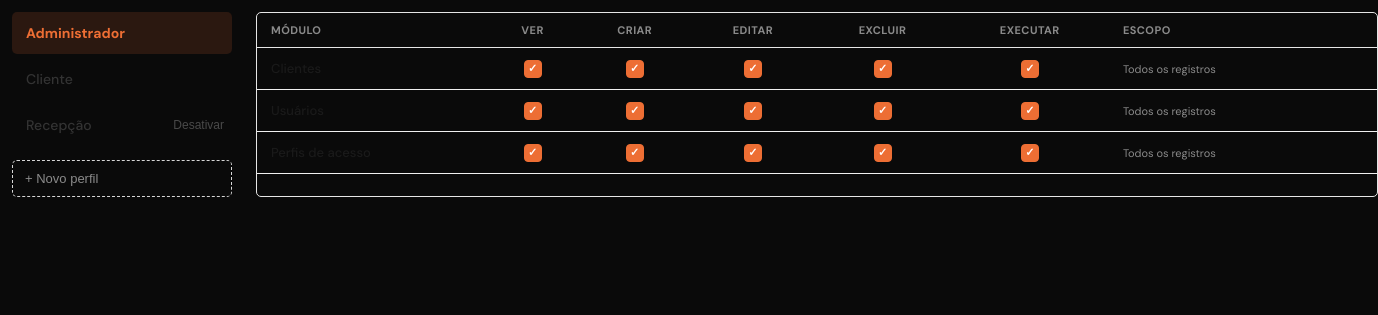
it: ProfilesPage › mostra o isolamento do Cliente como fixo, sem seletor de escopo editável
Click the button "Cliente" at (122, 79), box x1=12 y1=58 x2=232 y2=100
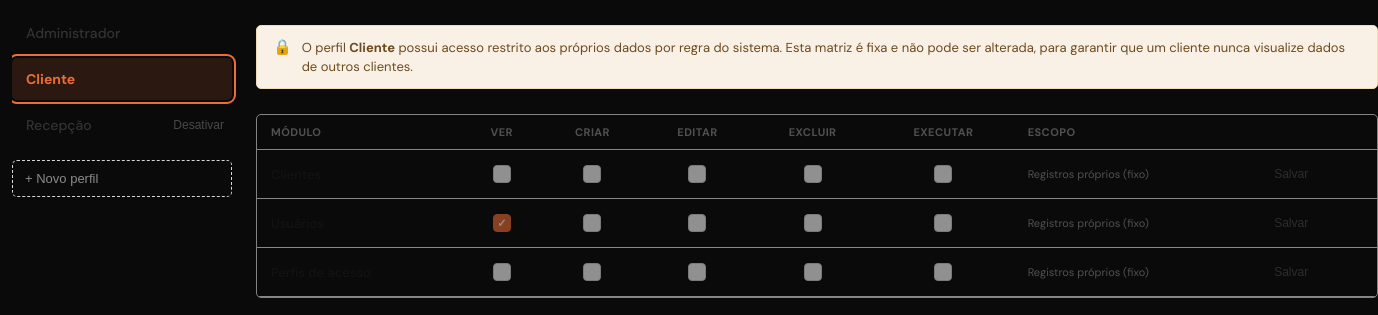
Now the text "acesso restrito aos próprios dados" is shown, box x1=302 y1=39 x2=1345 y2=75
Now the text "Registros próprios (fixo)" is shown 3 times, box x1=1028 y1=167 x2=1149 y2=181; x1=1028 y1=216 x2=1149 y2=230; x1=1028 y1=265 x2=1149 y2=279
